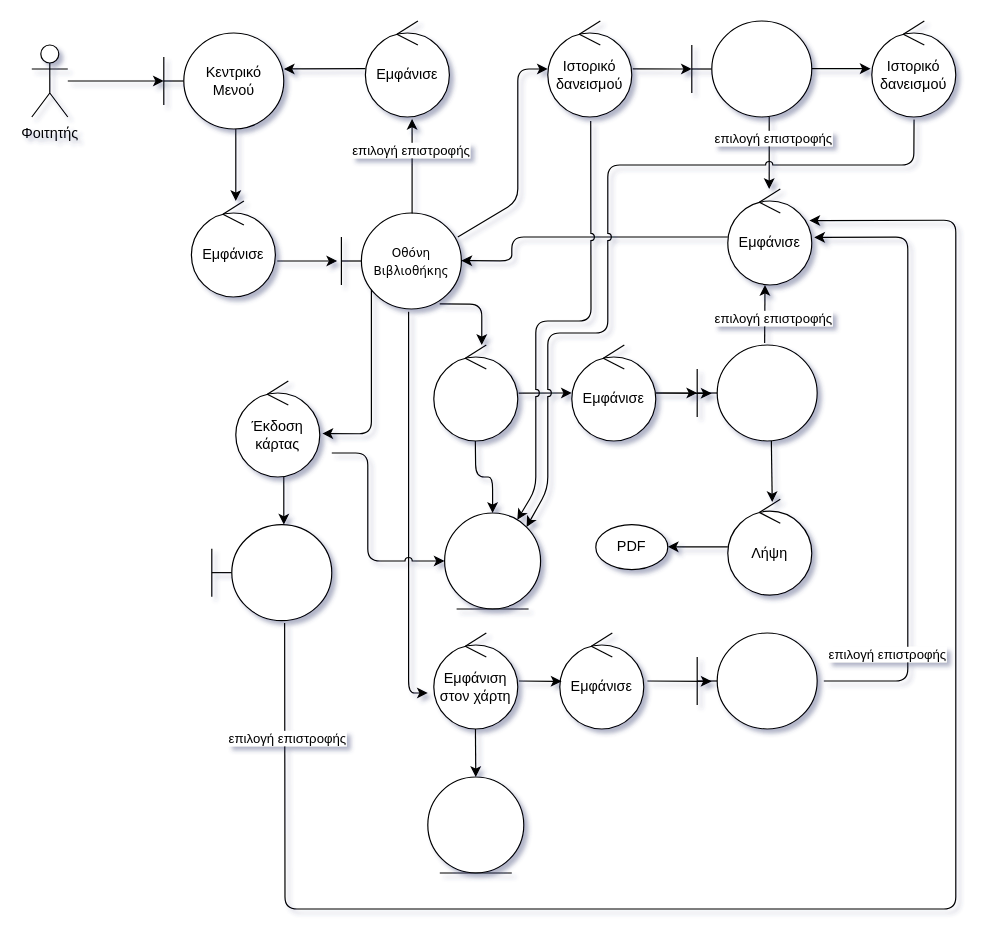
Some shapes in this 994 by 947 pixel diagram are drawn without their labels. Each missing label, with the box of its shape:
maps: (427, 776, 524, 873)
University API: (443, 512, 541, 609)
Αναζήτηση συγγραμάτων: (433, 344, 518, 441)
Ιστότοπος Βιβλιοθήκης: (211, 523, 332, 621)
Λίστα Δανεισμών: (691, 20, 812, 117)
Σύγγραμμα: (696, 344, 817, 441)
Χάρτης: (696, 632, 817, 729)
